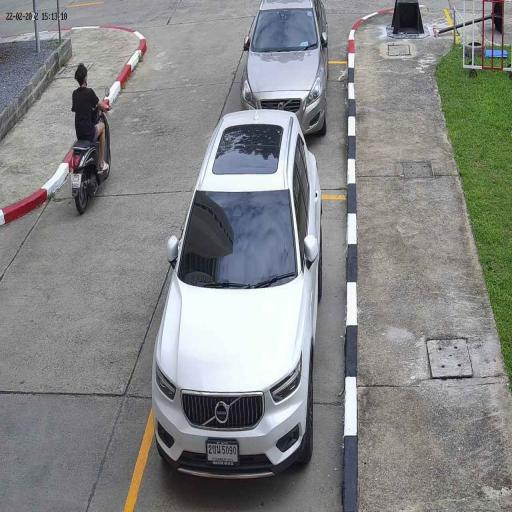car: (150, 109, 324, 485), (239, 0, 329, 142)
motorcycle: (68, 140, 112, 212)
